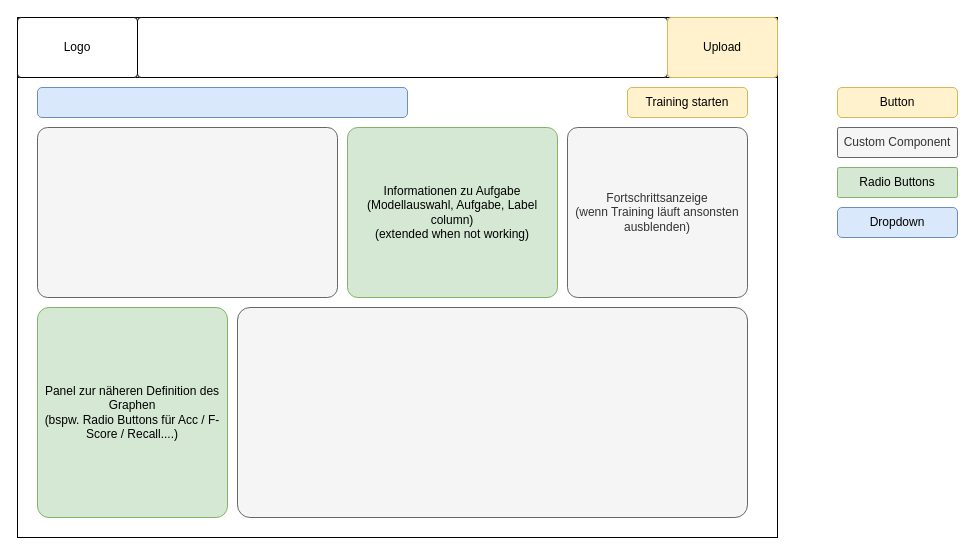
Image size: 975x555. Some labels were removed from this diagram. Each missing label, with the centre of its shape:
"Auswahl Datensatz (wenn mehrere hochgeladen Dropdown)" belongs at (222,102).
"Datensatzpreview" belongs at (187,212).
"Navigation" belongs at (402,47).
"Qualitätsvergleich Graphen (bspw. Bar Chart Accuracy)" belongs at (492,412).
